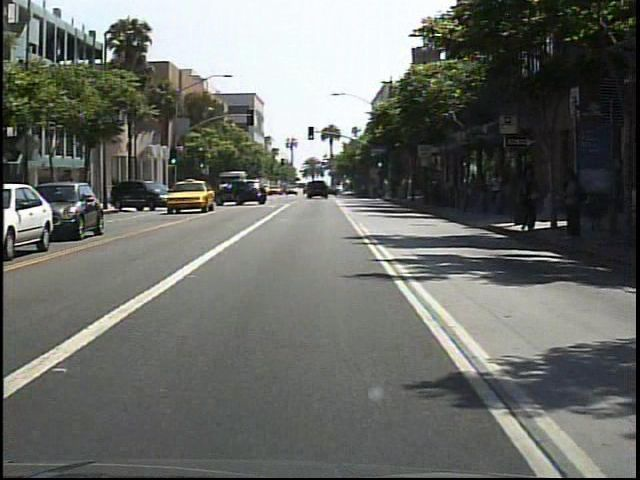person: (555, 167, 588, 243), (512, 161, 544, 238), (485, 167, 504, 210)
